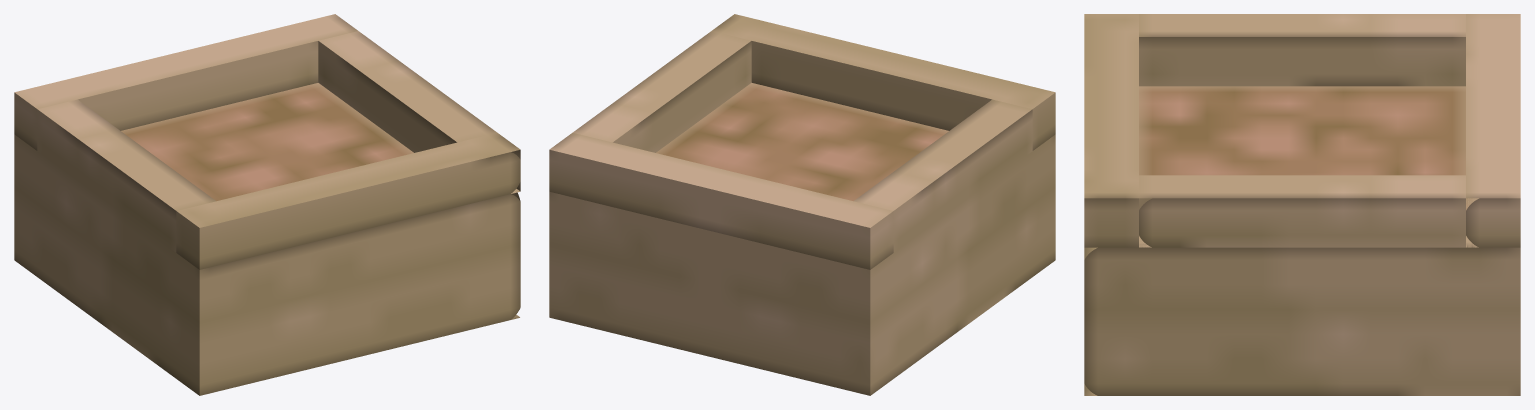
Rendered from Planter.fbx.
The picture shows the model from 3 angles, left to right: view 1: azimuth 30°, elevation 25°; view 2: azimuth 150°, elevation 25°; view 3: azimuth 270°, elevation 25°; orthographic projection. The views are drawn at different scales.
Parts seen in each view (by area): view 1: base, side_1, side, side_3, side_2; view 2: base, side, side_1, side_3, side_2; view 3: base, side_3, side_2, side_1, side.
Part boxes in pixels (bbox=[...]): base: bbox=[14, 83, 520, 395]; side_1: bbox=[176, 132, 520, 269]; side: bbox=[14, 14, 357, 150]; side_3: bbox=[37, 99, 215, 252]; side_2: bbox=[318, 31, 496, 152]; base: bbox=[549, 83, 1055, 395]; side: bbox=[549, 132, 893, 269]; side_1: bbox=[712, 14, 1055, 150]; side_3: bbox=[854, 99, 1032, 252]; side_2: bbox=[573, 31, 751, 152]; base: bbox=[1084, 86, 1520, 395]; side_3: bbox=[1139, 14, 1465, 86]; side_2: bbox=[1139, 175, 1465, 247]; side_1: bbox=[1084, 14, 1138, 247]; side: bbox=[1466, 14, 1520, 247].
Size of the model in its own units: 50 by 25 by 50.
Materials: 1 (1 with a texture image).
